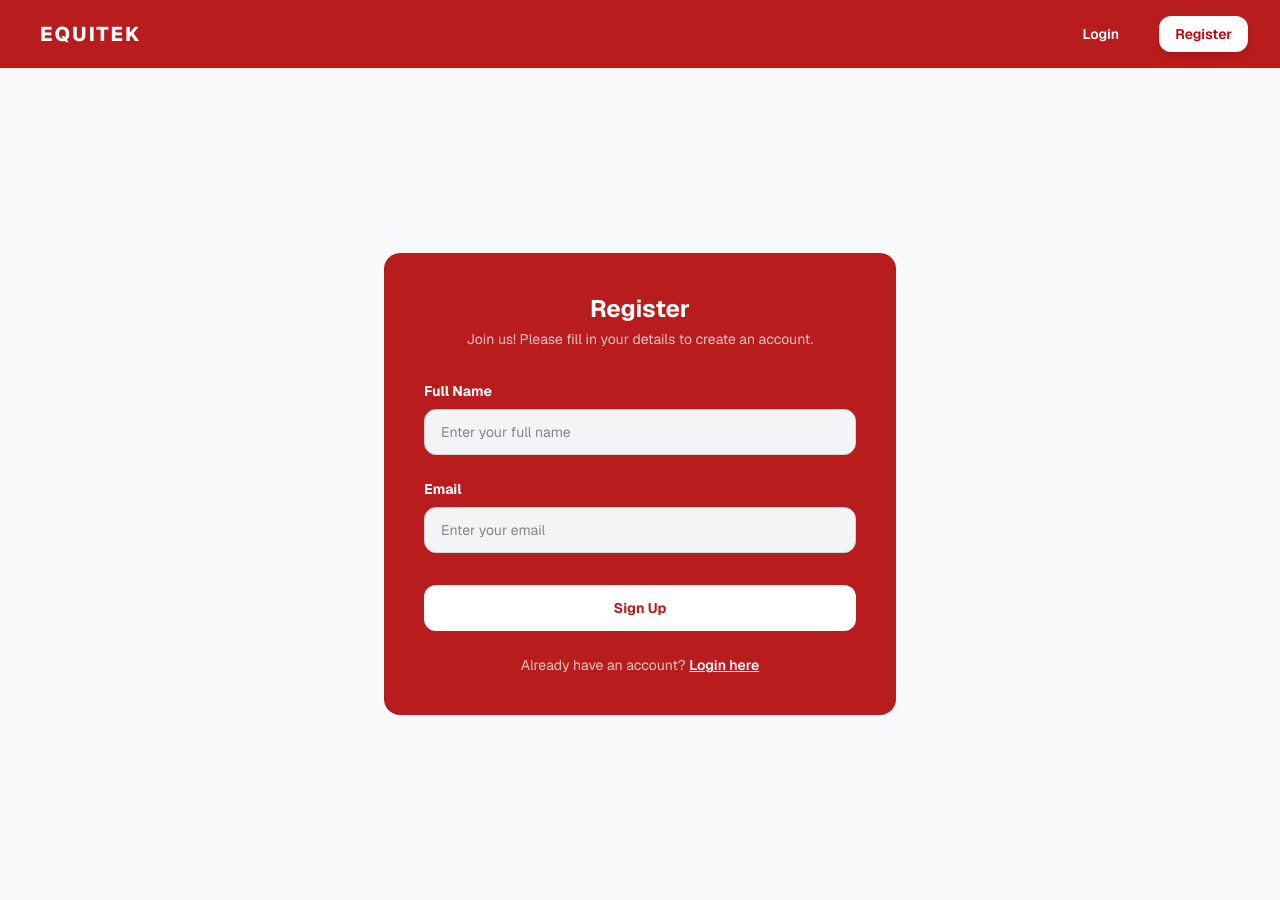
Scenario: Registration Page › client-side validation › shows error if email format is invalid
Type "John Doe" into the field labelled "Full Name" at (640, 432), box 424,409 -> 856,455
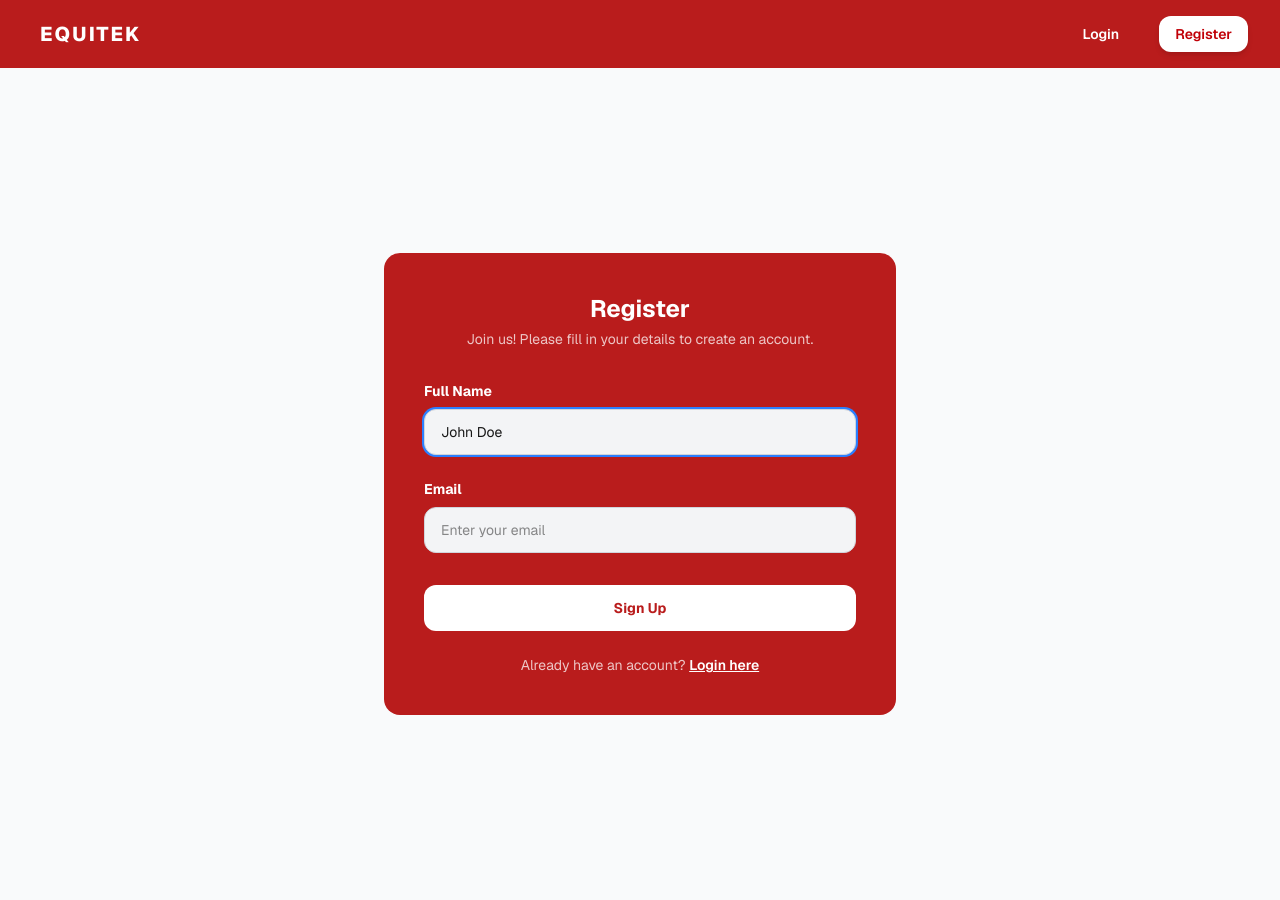
Type "invalid-email" into the field labelled "Email" at (640, 530), box 424,507 -> 856,553
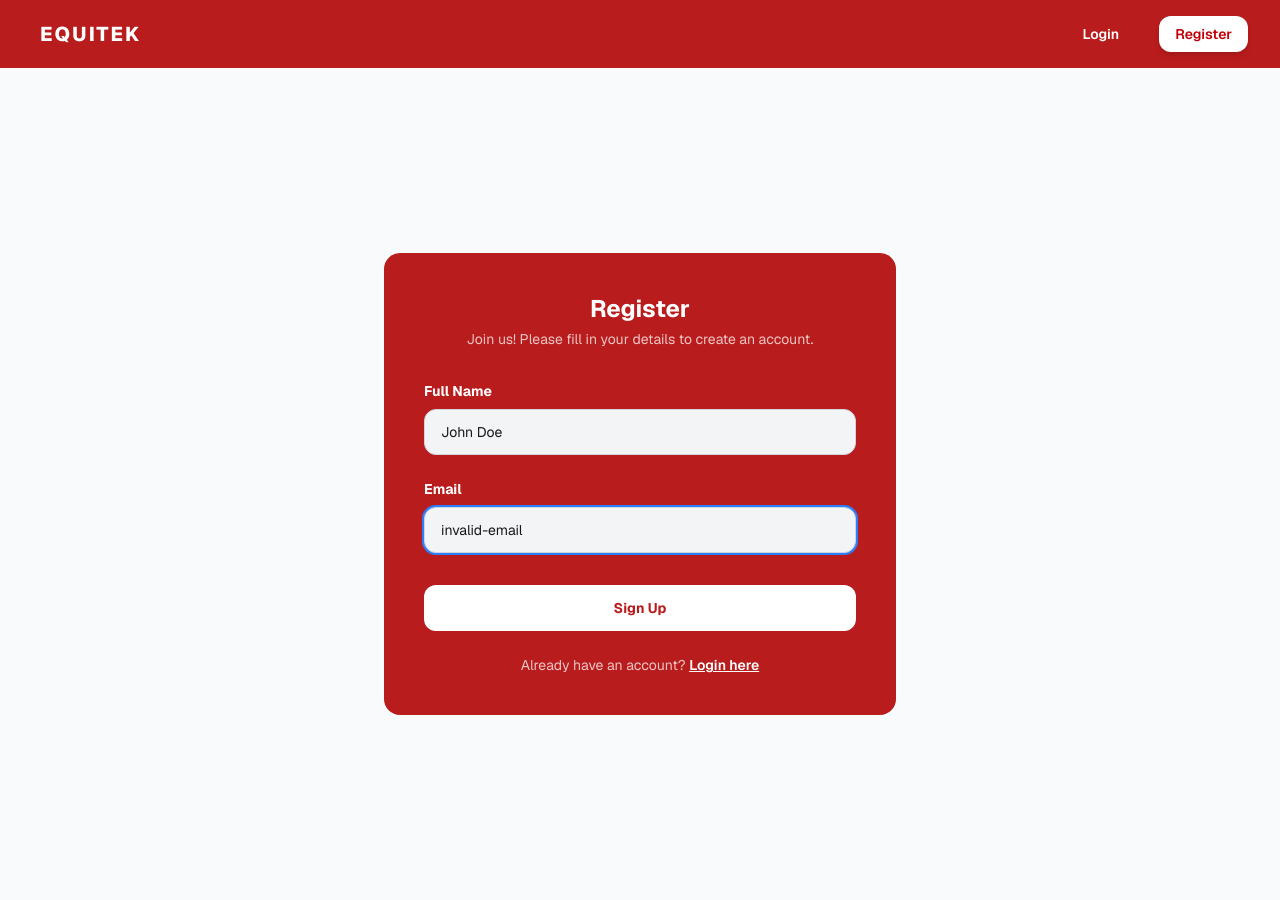
Click the button "Sign Up" at (640, 608), box 424,585 -> 856,631
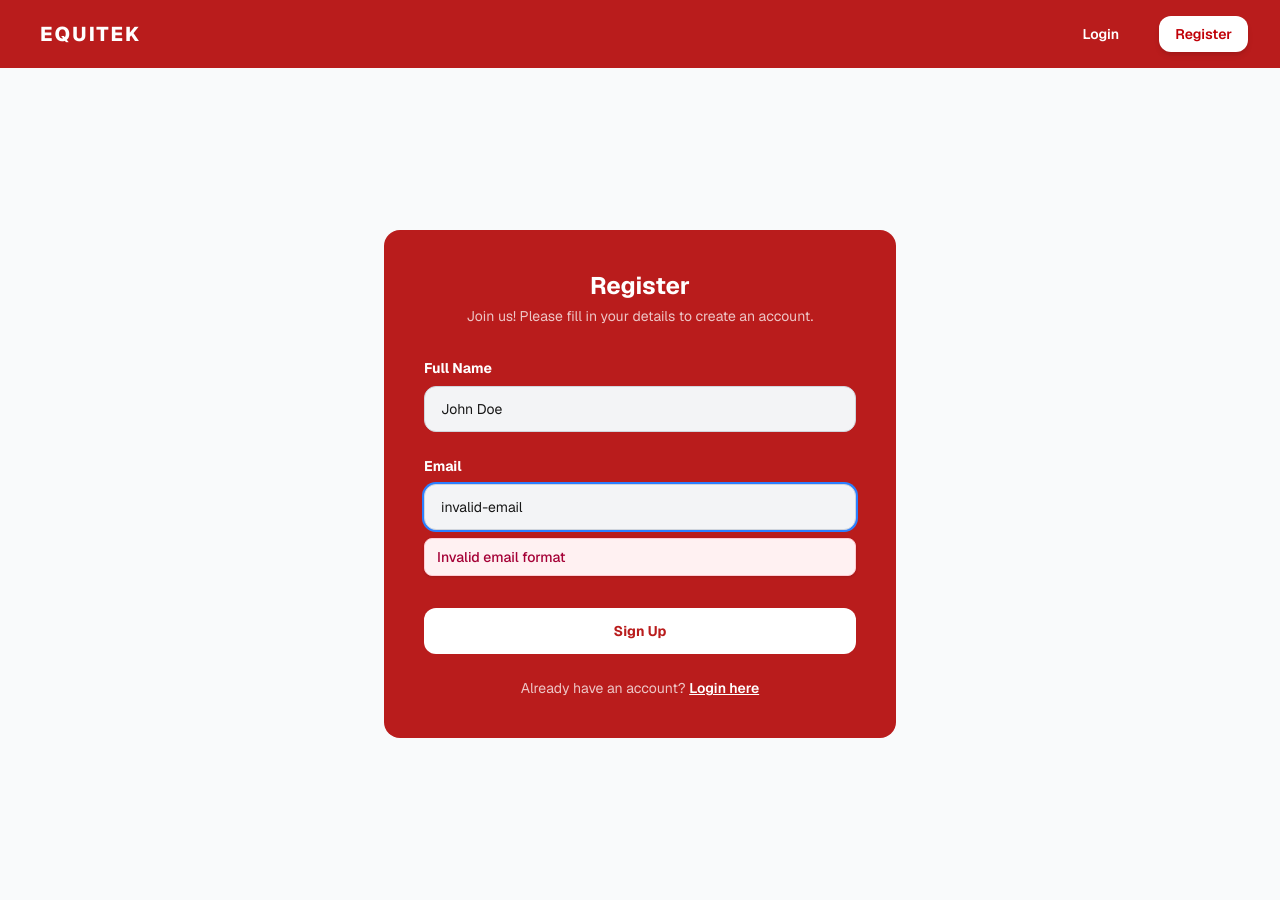
Now the text "Invalid email format" is shown, box 424,538 -> 856,576
